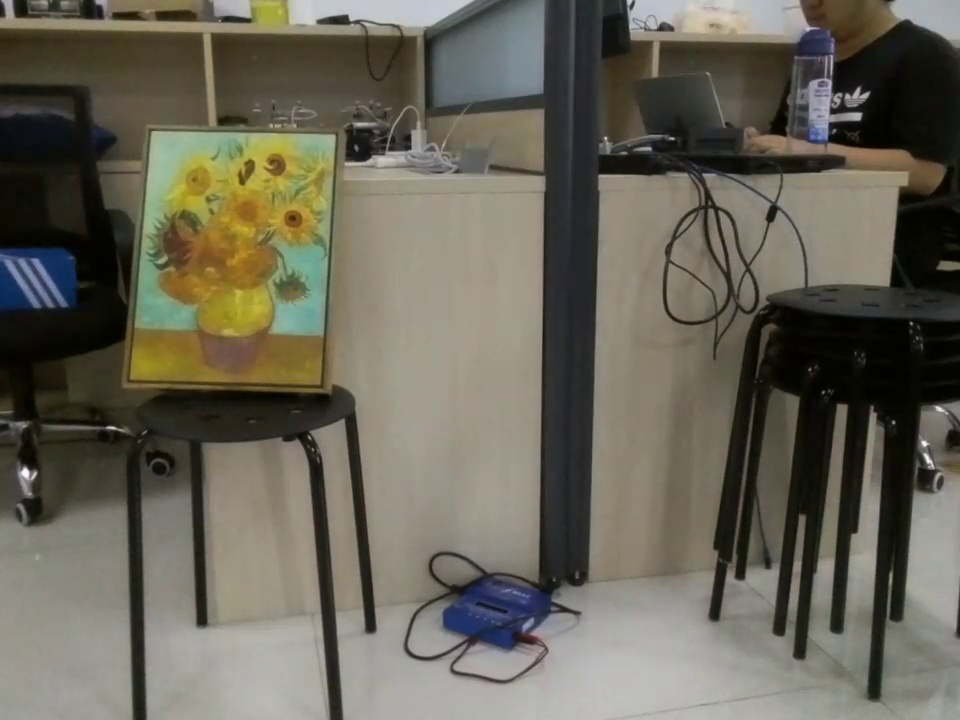painting: (124, 128, 347, 402)
